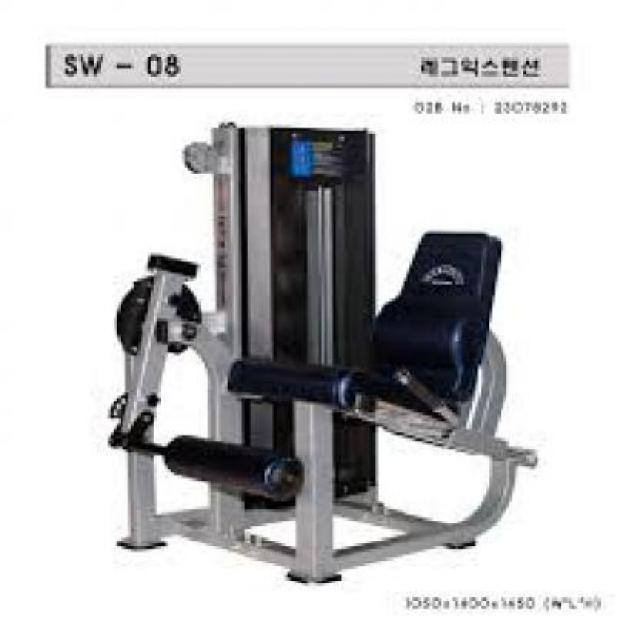leg extension: (79, 103, 563, 609)
